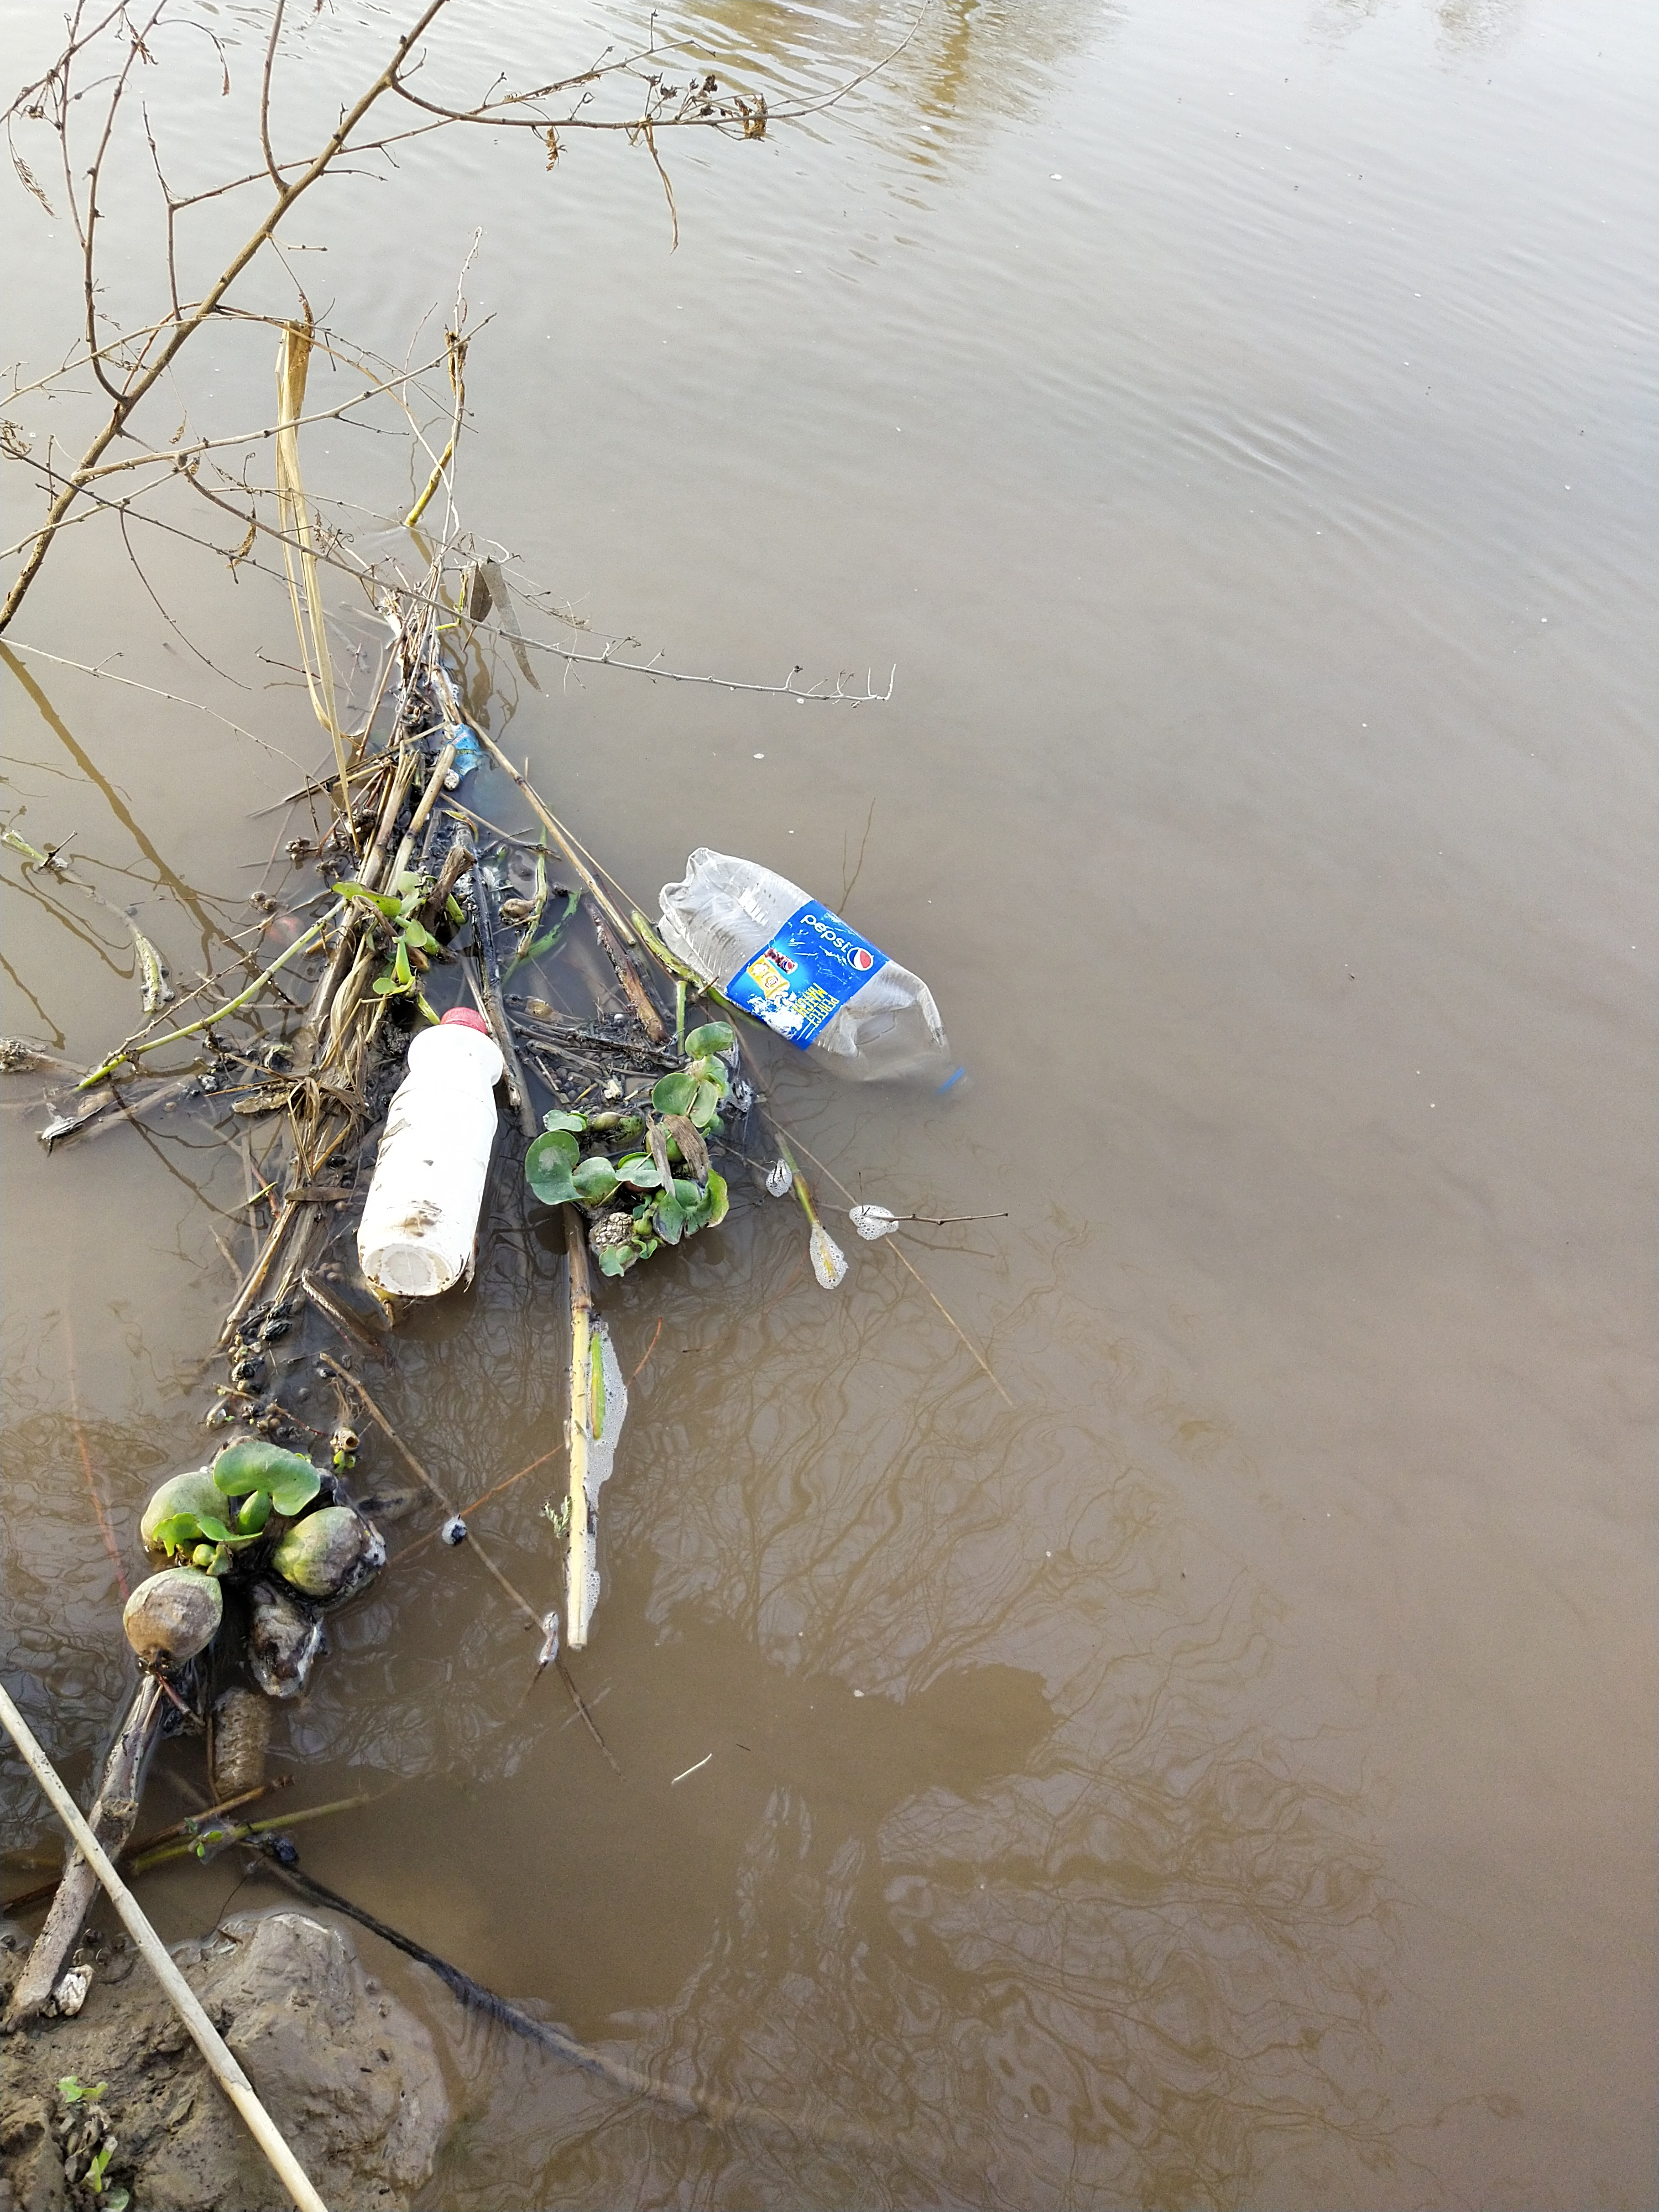Plastic Bottle: (659, 846, 972, 1101), (357, 1007, 502, 1299)
